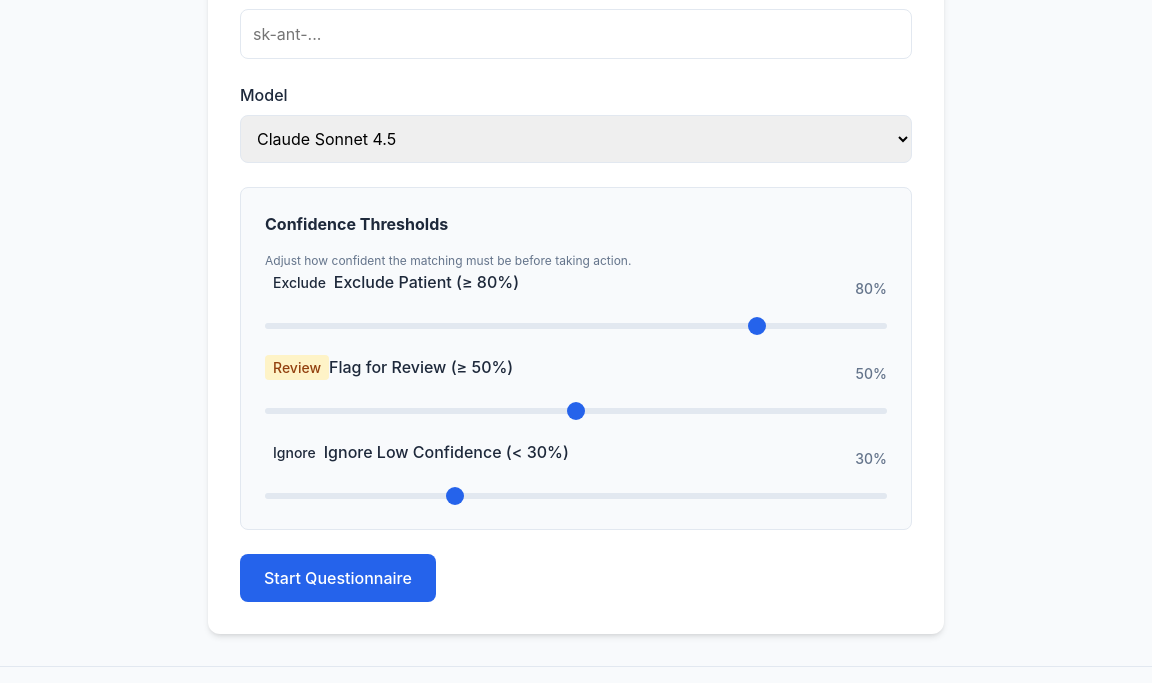
Test case: App Component › Error Handling › should allow dismissing error
(page scrolled)
# Trigger error
Step 1. Click the button "Start Questionnaire" → click(338, 578), box top-left (240, 554), bottom-right (436, 602)
(page scrolled)
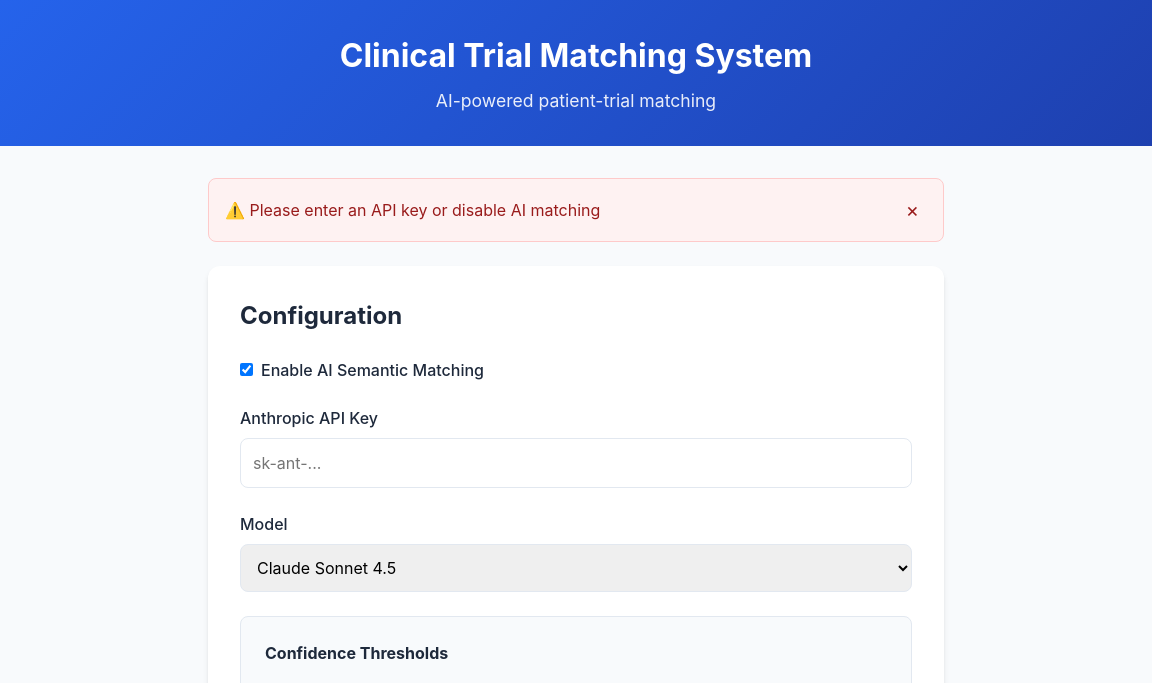
Expected: the message "⚠️ Please enter an API key or disable AI matching ×" is shown, top-left (208, 178), bottom-right (944, 242)
Step 2. Click the button named "Dismiss error" → click(912, 210), box top-left (898, 195), bottom-right (927, 225)
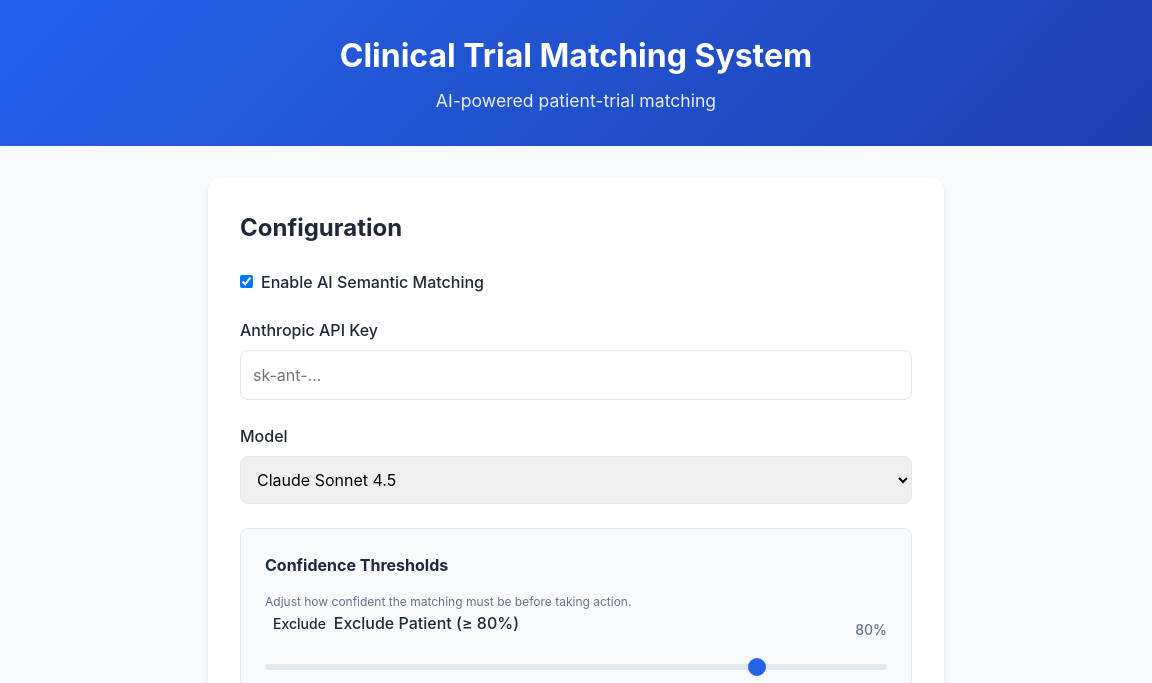
Expected: the message "⚠️ Please enter an API key or disable AI matching ×" is gone
